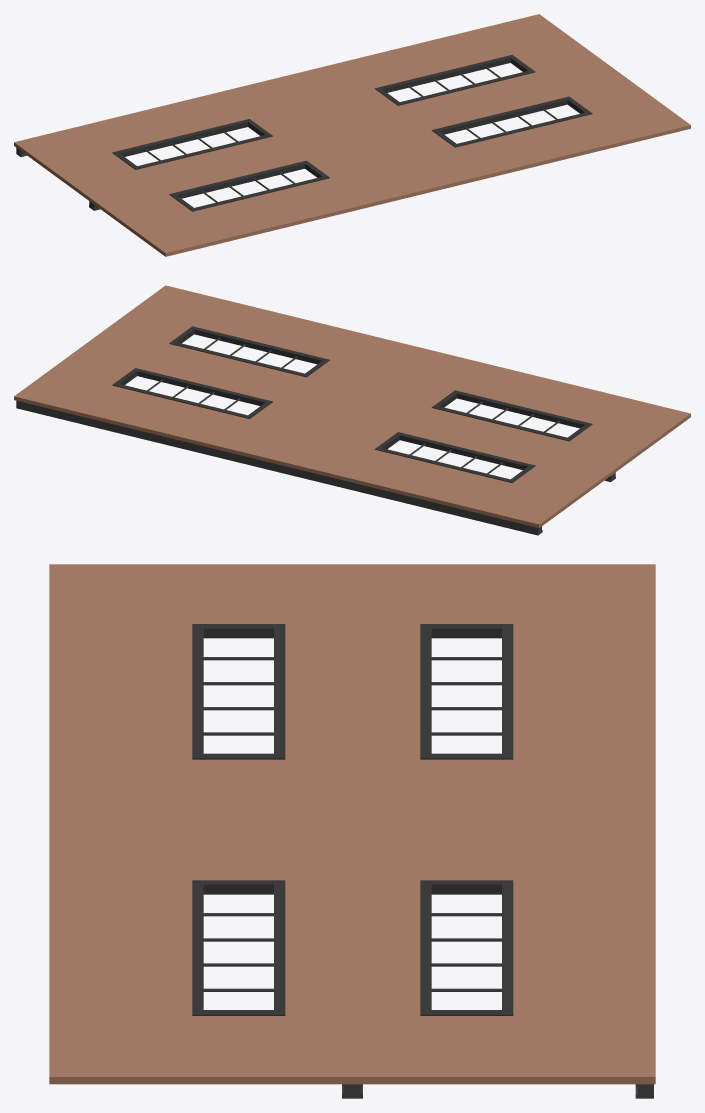
Rendered from Roof_01.fbx.
The picture shows the model from 3 angles, top to bottom: view 1: azimuth 30°, elevation 25°; view 2: azimuth 150°, elevation 25°; view 3: azimuth 270°, elevation 25°; orthographic projection. The views are drawn at different scales.
Parts seen in each view (by area): view 1: Roof_01; view 2: Roof_01; view 3: Roof_01.
Boxes of the visible parts, x1,y1,x2,y2 form: Roof_01: [14, 14, 690, 256]; Roof_01: [14, 285, 690, 535]; Roof_01: [49, 564, 655, 1098].
Bounding box in the file's own units: 3000 × 67.8 × 1500.
